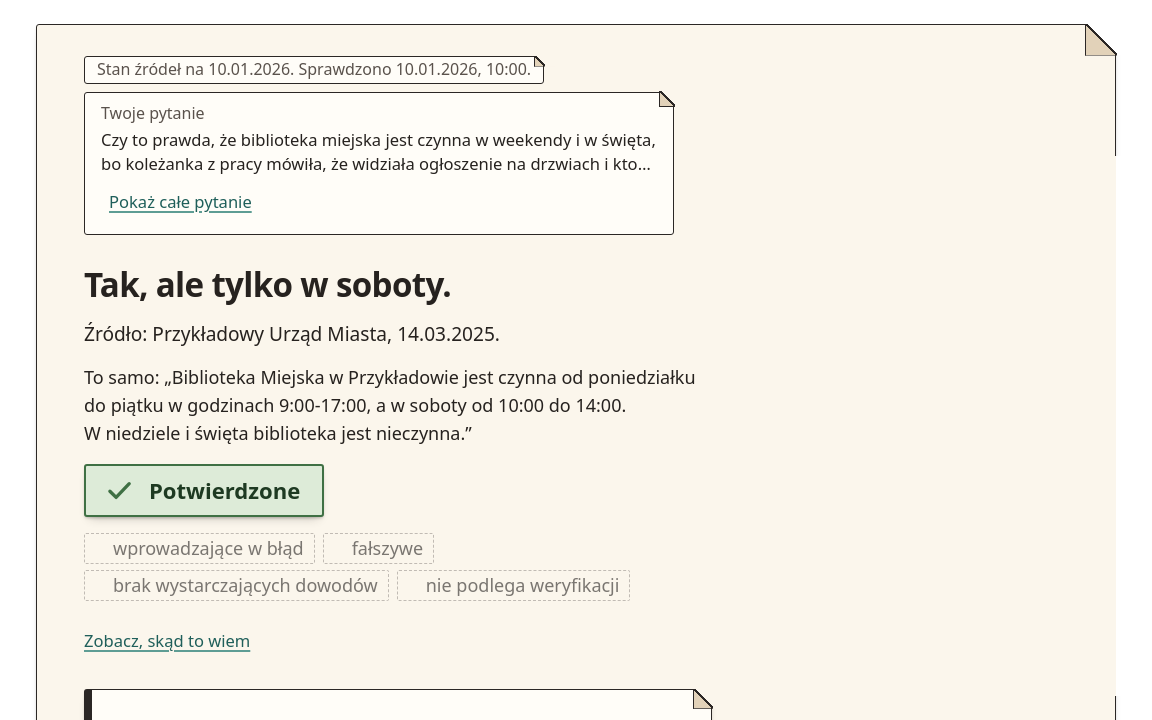
Test: arkusz wyniku: układ od góry › długie pytanie ma przycisk rozwijania, krótkie nie
Click the button "Pokaż całe pytanie": click(180, 202) [101,178,260,226]
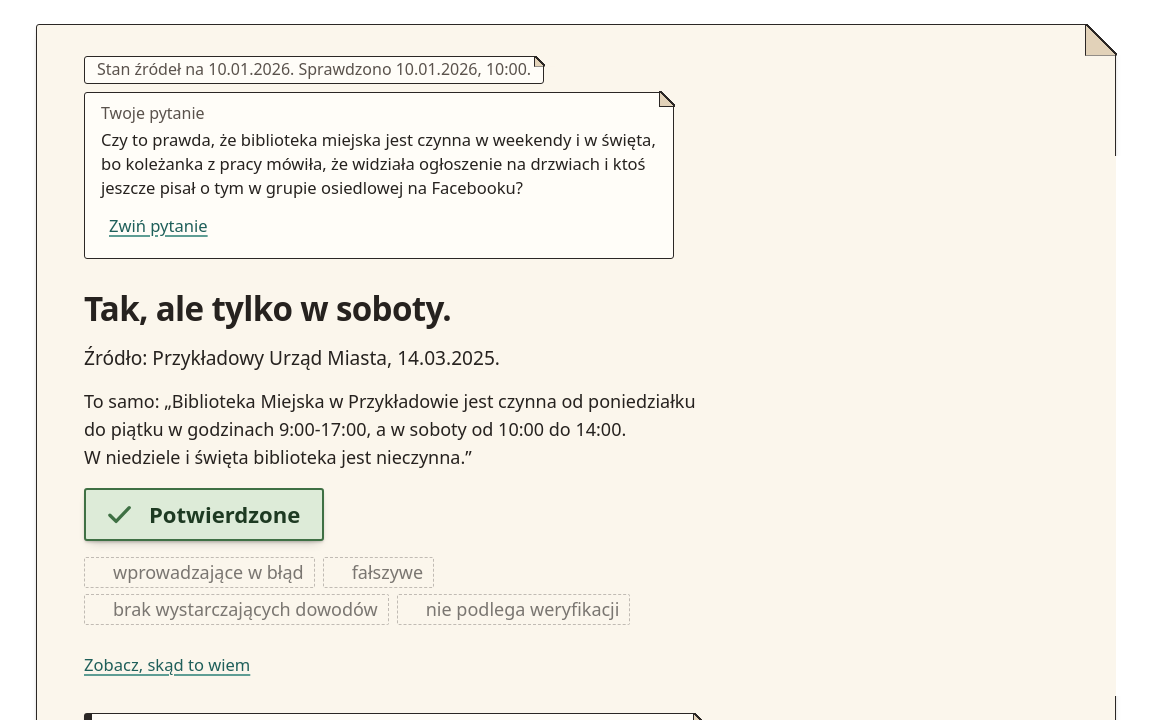
Expected: the button "Zwiń pytanie" is expanded, [101,202,216,250]
